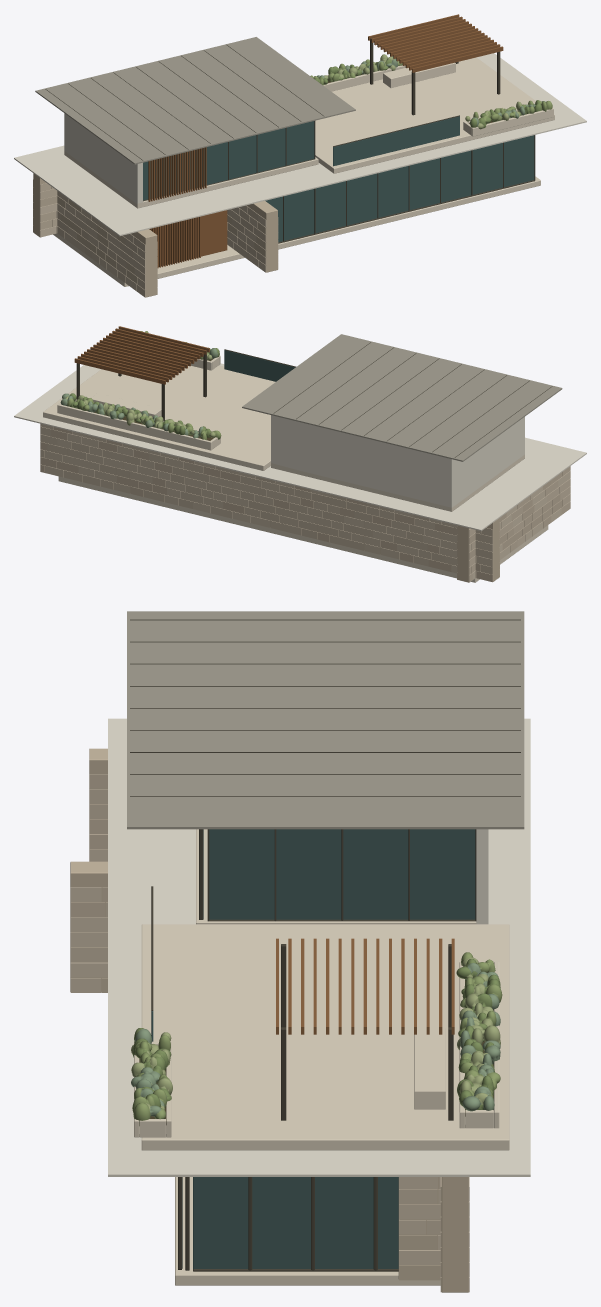
The model's file is casa-2.glb.
3 views of the same model, one above another, from view 1: azimuth 30°, elevation 25°; view 2: azimuth 150°, elevation 25°; view 3: azimuth 270°, elevation 25° (orthographic). The views are drawn at different scales.
Visible parts, largest first — view 1: Casa 03 | Arquitectura sin solapes, Casa 03 | Vegetacion integrada; view 2: Casa 03 | Arquitectura sin solapes, Casa 03 | Vegetacion integrada; view 3: Casa 03 | Arquitectura sin solapes, Casa 03 | Vegetacion integrada.
Part boxes in pixels (bbox=[...]): Casa 03 | Arquitectura sin solapes: bbox=[14, 14, 586, 297]; Casa 03 | Vegetacion integrada: bbox=[310, 54, 553, 136]; Casa 03 | Arquitectura sin solapes: bbox=[14, 326, 586, 582]; Casa 03 | Vegetacion integrada: bbox=[57, 331, 221, 450]; Casa 03 | Arquitectura sin solapes: bbox=[70, 611, 530, 1292]; Casa 03 | Vegetacion integrada: bbox=[131, 952, 502, 1137].
Bounding box in the file's own units: 25.8 × 7.03 × 11.
